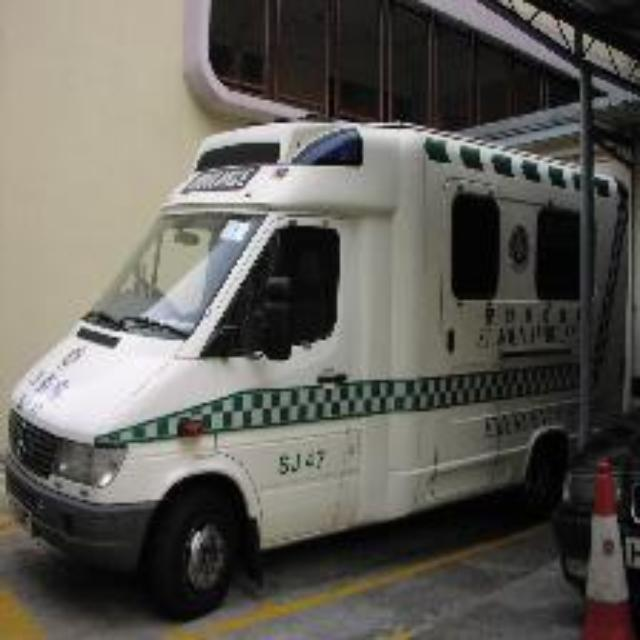emergency: (20, 116, 622, 582)
